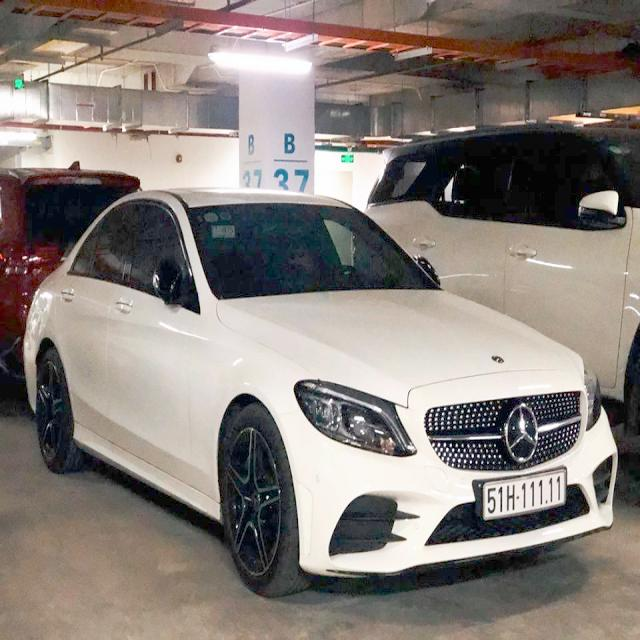license_plate: (485, 471, 567, 520)
